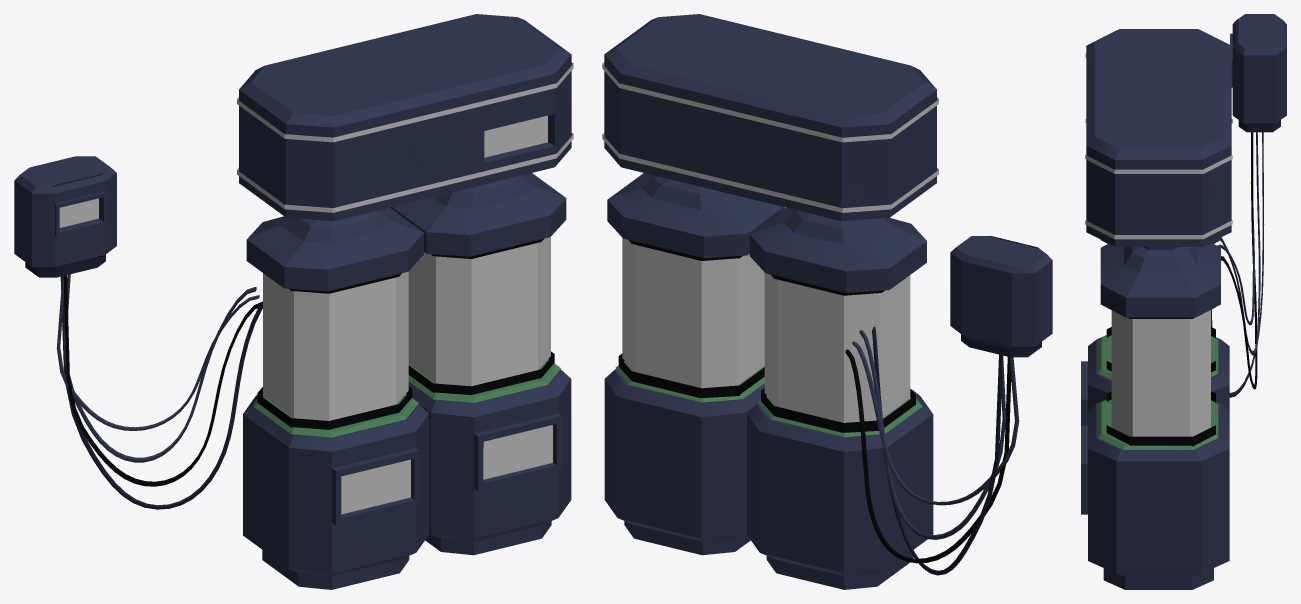
Rendered from chamber.fbx.
The picture shows the model from 3 angles, left to right: view 1: azimuth 30°, elevation 25°; view 2: azimuth 150°, elevation 25°; view 3: azimuth 270°, elevation 25°; orthographic projection. The views are drawn at different scales.
Parts seen in each view (by area): view 1: polySurface2860, chamber2_pasted__group_pasted__pasted__pasted__polySurface31 (×4), polySurface2867, polySurface2868, polySurface2862, polySurface2866, polySurface2863, pasted__pasted__pasted__polySurface276, pasted__pasted__pasted__polySurface269, pasted__pasted__pasted__polySurface319, pasted__pasted__pasted__polySurface330; view 2: polySurface2860, chamber2_pasted__group_pasted__pasted__pasted__polySurface31 (×4), polySurface2867, polySurface2868, polySurface2862, polySurface2866, polySurface2863, pasted__pasted__pasted__polySurface269, pasted__pasted__pasted__polySurface276, pasted__pasted__pasted__polySurface330, pasted__pasted__pasted__polySurface319; view 3: polySurface2860, polySurface2868, chamber2_pasted__group_pasted__pasted__pasted__polySurface31 (×4), polySurface2863, polySurface2866, polySurface2867, pasted__pasted__pasted__polySurface269, pasted__pasted__pasted__polySurface319, pasted__pasted__pasted__polySurface276, pasted__pasted__pasted__polySurface330.
Part boxes in pixels (<box>): polySurface2860: <box>239,14,571,220</box>; chamber2_pasted__group_pasted__pasted__pasted__polySurface31 (×4): <box>237,62,573,437</box>; polySurface2867: <box>243,395,428,589</box>; polySurface2868: <box>408,369,571,555</box>; polySurface2862: <box>246,207,423,291</box>; polySurface2866: <box>14,156,116,277</box>; polySurface2863: <box>390,173,566,256</box>; pasted__pasted__pasted__polySurface276: <box>60,276,262,509</box>; pasted__pasted__pasted__polySurface269: <box>63,275,262,486</box>; pasted__pasted__pasted__polySurface319: <box>63,274,256,462</box>; pasted__pasted__pasted__polySurface330: <box>56,276,259,430</box>; polySurface2860: <box>604,14,936,220</box>; chamber2_pasted__group_pasted__pasted__pasted__polySurface31 (×4): <box>602,62,938,437</box>; polySurface2867: <box>747,389,933,589</box>; polySurface2868: <box>604,369,764,555</box>; polySurface2862: <box>749,207,926,292</box>; polySurface2866: <box>950,236,1052,357</box>; polySurface2863: <box>607,173,784,258</box>; pasted__pasted__pasted__polySurface269: <box>845,349,1011,563</box>; pasted__pasted__pasted__polySurface276: <box>872,326,1003,575</box>; pasted__pasted__pasted__polySurface330: <box>852,341,1019,505</box>; pasted__pasted__pasted__polySurface319: <box>859,330,1006,539</box>; polySurface2860: <box>1086,29,1231,246</box>; polySurface2868: <box>1081,399,1229,589</box>; chamber2_pasted__group_pasted__pasted__pasted__polySurface31 (×4): <box>1085,53,1232,449</box>; polySurface2863: <box>1100,242,1220,317</box>; polySurface2866: <box>1230,14,1286,132</box>; polySurface2867: <box>1081,335,1229,425</box>; pasted__pasted__pasted__polySurface269: <box>1221,132,1257,389</box>; pasted__pasted__pasted__polySurface319: <box>1220,132,1260,355</box>; pasted__pasted__pasted__polySurface276: <box>1211,132,1264,397</box>; pasted__pasted__pasted__polySurface330: <box>1217,132,1254,325</box>.
Size of the model in its own units: 75.69 by 73.21 by 30.86.
